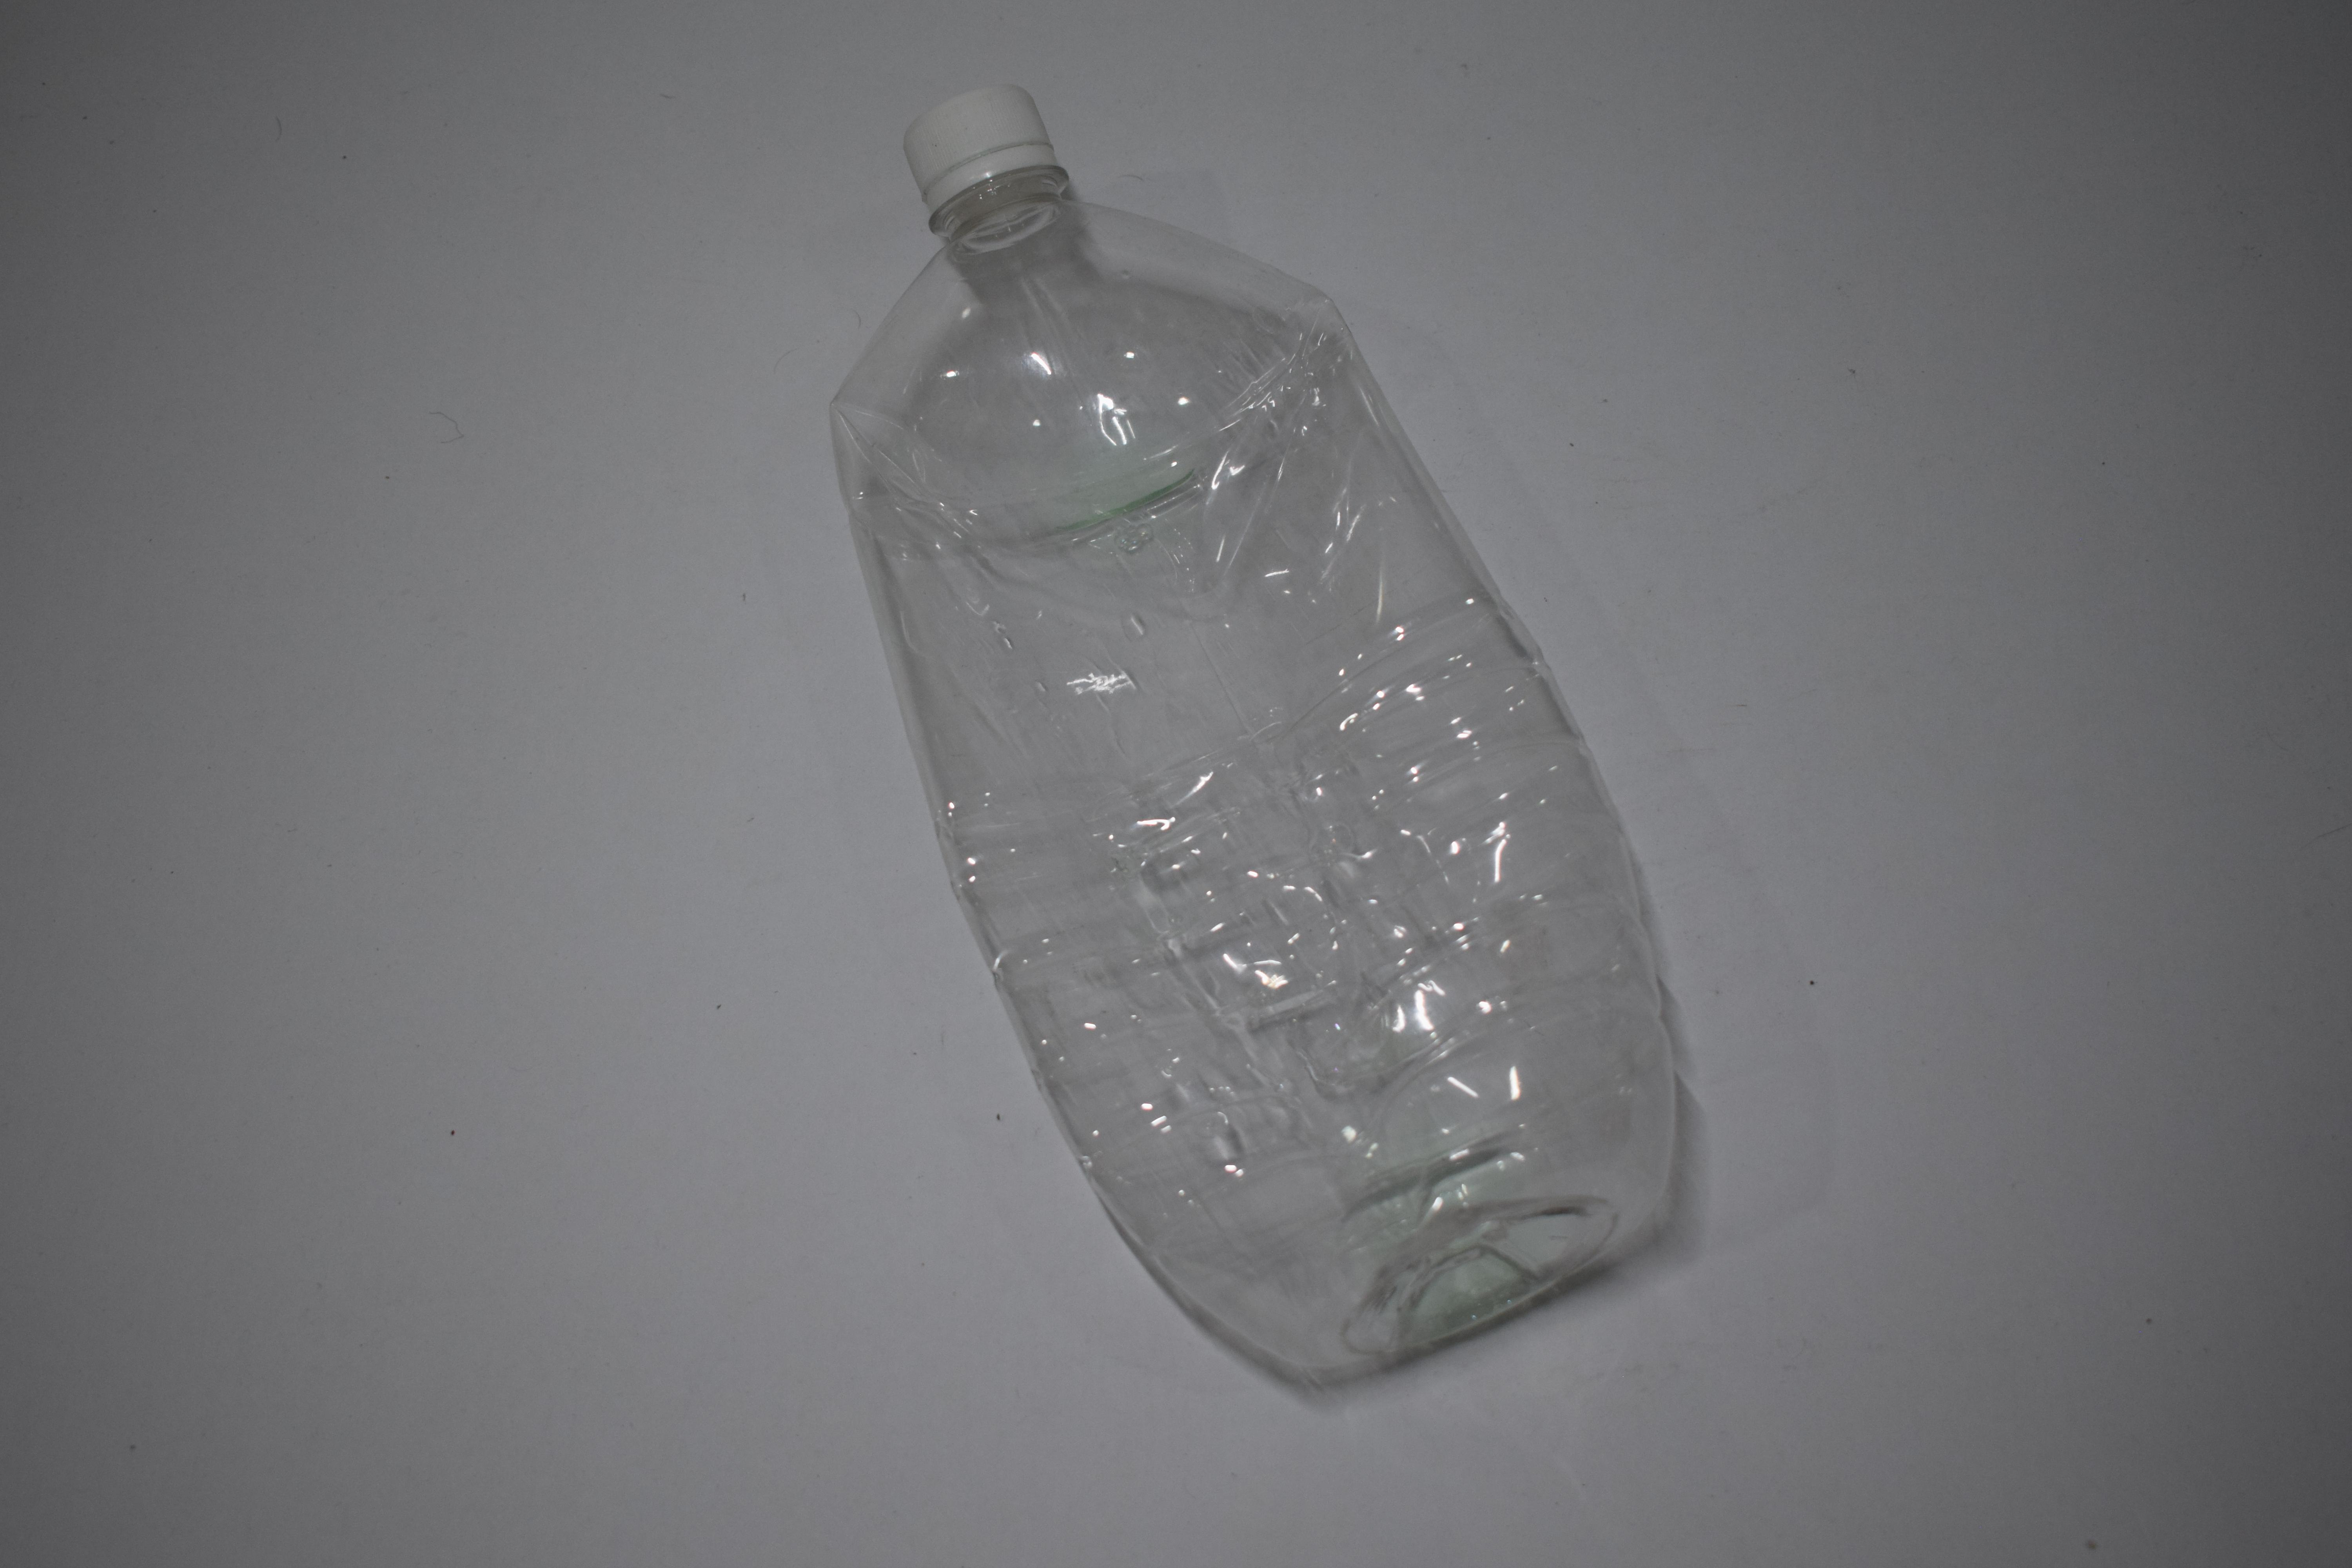bottle: (0, 75, 509, 1395)
